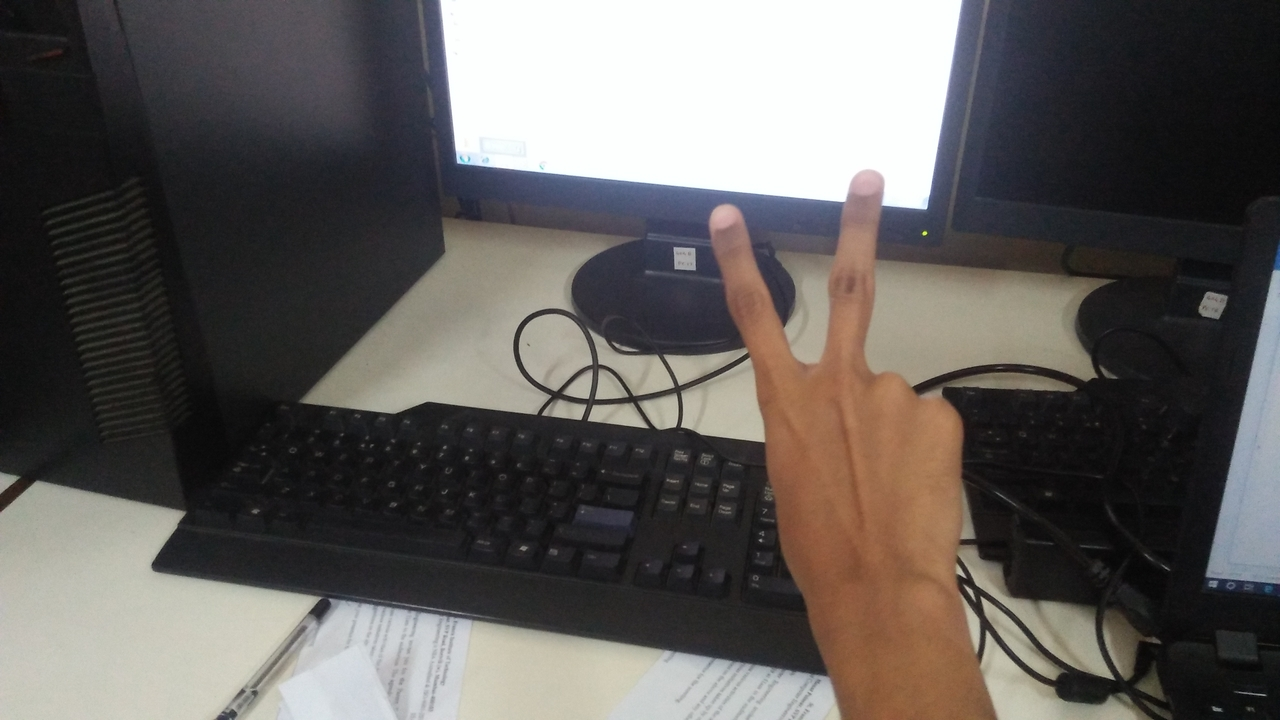fingertip: (700, 196, 760, 250), (840, 160, 890, 200)
